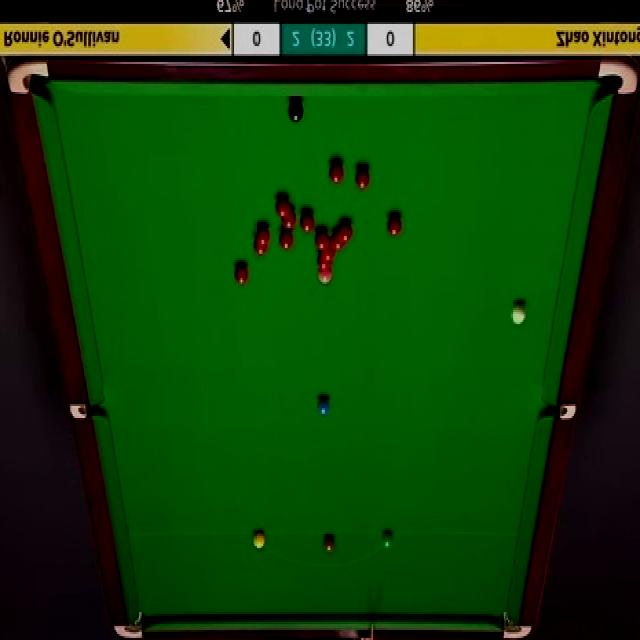black-ball: (286, 102, 304, 125)
blue-ball: (316, 398, 331, 415)
brown-ball: (324, 534, 335, 552)
green-ball: (380, 530, 395, 552)
pink-ball: (318, 270, 334, 284)
red-ball: (386, 213, 402, 240), (314, 228, 330, 251), (300, 212, 316, 235), (329, 159, 344, 183), (233, 262, 248, 286), (337, 222, 353, 244), (277, 198, 292, 220), (356, 166, 370, 187), (282, 208, 297, 227), (330, 234, 344, 254), (258, 224, 270, 247), (279, 232, 294, 250), (320, 244, 334, 262), (253, 237, 265, 257), (315, 256, 331, 271)
white-ball: (510, 302, 527, 325)
yellow-ball: (253, 530, 265, 550)
